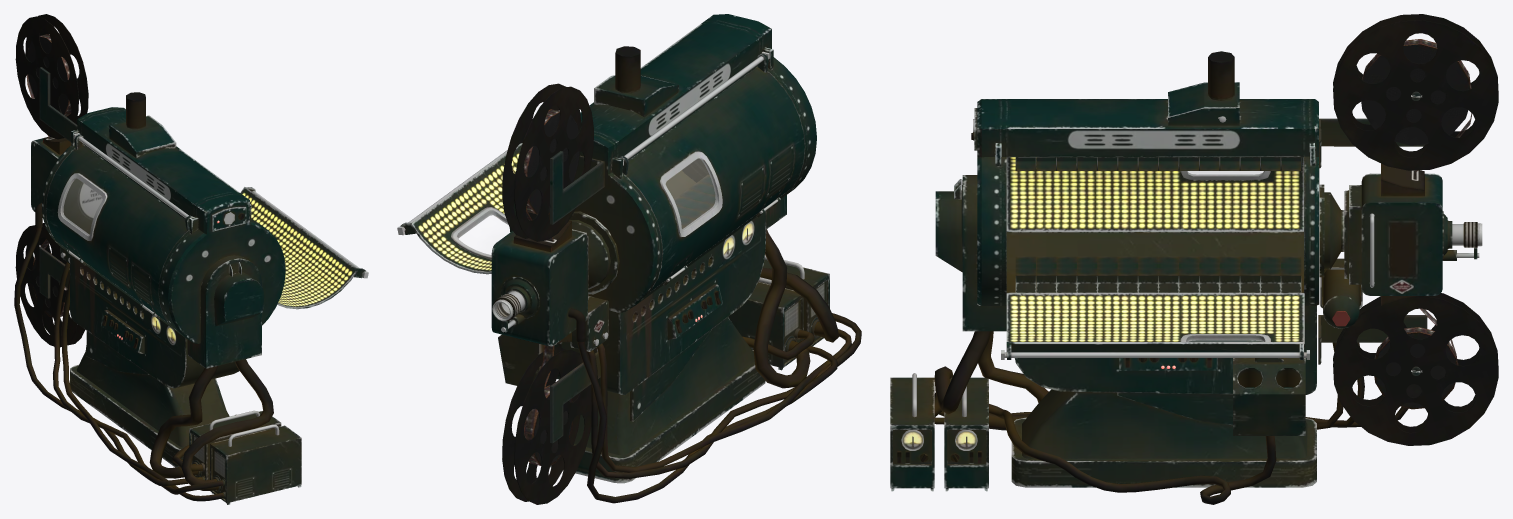
Rendered from call_of_duty_infinite_warfare_projector.glb.
3 views of the same model, side by side, from view 1: azimuth 30°, elevation 25°; view 2: azimuth 150°, elevation 25°; view 3: azimuth 270°, elevation 25° (orthographic). The views are drawn at different scales.
Visible parts, largest first — view 1: Estructura_low, Estructura-Puerta_low001, Transformadores_low, Estructura-Puerta_low, Optica_Carrete_01_low, Optica_Carrete_01_low001, Estructura-Ventana_low001, Cable02_low, Cable01_low, Cable06_low, Cable04_low, Cable05_low (+7 smaller); view 2: Estructura_low, Estructura-Puerta_low001, Optica_Carrete_01_low001, Optica_Carrete_01_low, Optica-Soporte_04_low, Estructura-Puerta_low, Transformadores_low, Estructura-Ventana_low001, Cable01_low, Cable04_low, Cable06_low, Cable05_low (+16 smaller); view 3: Estructura_low, Estructura-Puerta_low001, Estructura-Puerta_low, Optica_Carrete_01_low, Optica_Carrete_01_low001, Detalles-Array_low, Optica-Soporte_04_low, Transformadores_low, Detalles-Juntos_low, Optica-Cinta_01_low, Cable03_low, Cable02_low (+12 smaller).
Boxes of the visible parts, left/top/right/bottom form: Estructura_low: left=41, top=92, right=285, bottom=467; Estructura-Puerta_low001: left=46, top=145, right=187, bottom=322; Transformadores_low: left=189, top=411, right=301, bottom=504; Estructura-Puerta_low: left=240, top=187, right=358, bottom=309; Optica_Carrete_01_low: left=15, top=14, right=88, bottom=139; Optica_Carrete_01_low001: left=15, top=223, right=84, bottom=347; Estructura-Ventana_low001: left=57, top=173, right=107, bottom=240; Cable02_low: left=181, top=359, right=273, bottom=490; Cable01_low: left=149, top=366, right=217, bottom=478; Cable06_low: left=53, top=262, right=223, bottom=494; Cable04_low: left=14, top=228, right=203, bottom=486; Cable05_low: left=61, top=279, right=224, bottom=501; Estructura_low: left=509, top=14, right=816, bottom=483; Estructura-Puerta_low001: left=626, top=67, right=804, bottom=290; Optica_Carrete_01_low001: left=502, top=346, right=591, bottom=504; Optica_Carrete_01_low: left=502, top=83, right=593, bottom=241; Optica-Soporte_04_low: left=491, top=229, right=588, bottom=346; Estructura-Puerta_low: left=410, top=143, right=522, bottom=274; Transformadores_low: left=728, top=259, right=829, bottom=370; Estructura-Ventana_low001: left=660, top=151, right=722, bottom=236; Cable01_low: left=753, top=229, right=810, bottom=388; Cable04_low: left=577, top=342, right=837, bottom=503; Cable06_low: left=587, top=313, right=861, bottom=478; Cable05_low: left=597, top=329, right=851, bottom=472; Estructura_low: left=935, top=51, right=1319, bottom=487; Estructura-Puerta_low001: left=1006, top=157, right=1303, bottom=231; Estructura-Puerta_low: left=1006, top=293, right=1304, bottom=352; Optica_Carrete_01_low: left=1333, top=14, right=1498, bottom=170; Optica_Carrete_01_low001: left=1333, top=293, right=1498, bottom=445; Detalles-Array_low: left=1015, top=157, right=1301, bottom=292; Optica-Soporte_04_low: left=1344, top=173, right=1442, bottom=295; Transformadores_low: left=890, top=377, right=988, bottom=491; Detalles-Juntos_low: left=1233, top=340, right=1305, bottom=435; Optica-Cinta_01_low: left=1361, top=39, right=1470, bottom=145; Cable03_low: left=989, top=404, right=1276, bottom=504; Cable02_low: left=934, top=331, right=991, bottom=417.
Size of the model in its own units: 7.94 by 11.47 by 14.31.
2 materials, 2 textured.
